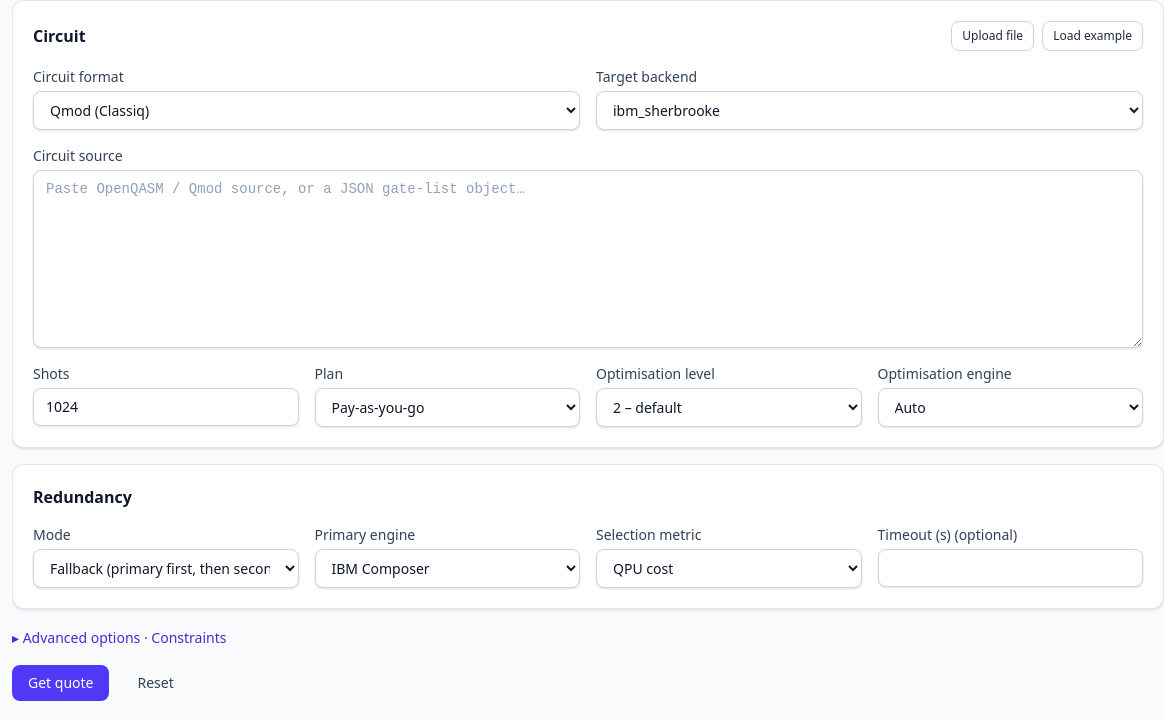
CircuitForm › fills the Bell-state example and switches format to openqasm2
The width and height of the screenshot is (1164, 720).
expect the text box labelled "Circuit source" is empty: met, box x1=33 y1=170 x2=1143 y2=348
Click the button "Load example".
click(1093, 36)  # box x1=1042 y1=21 x2=1143 y2=51
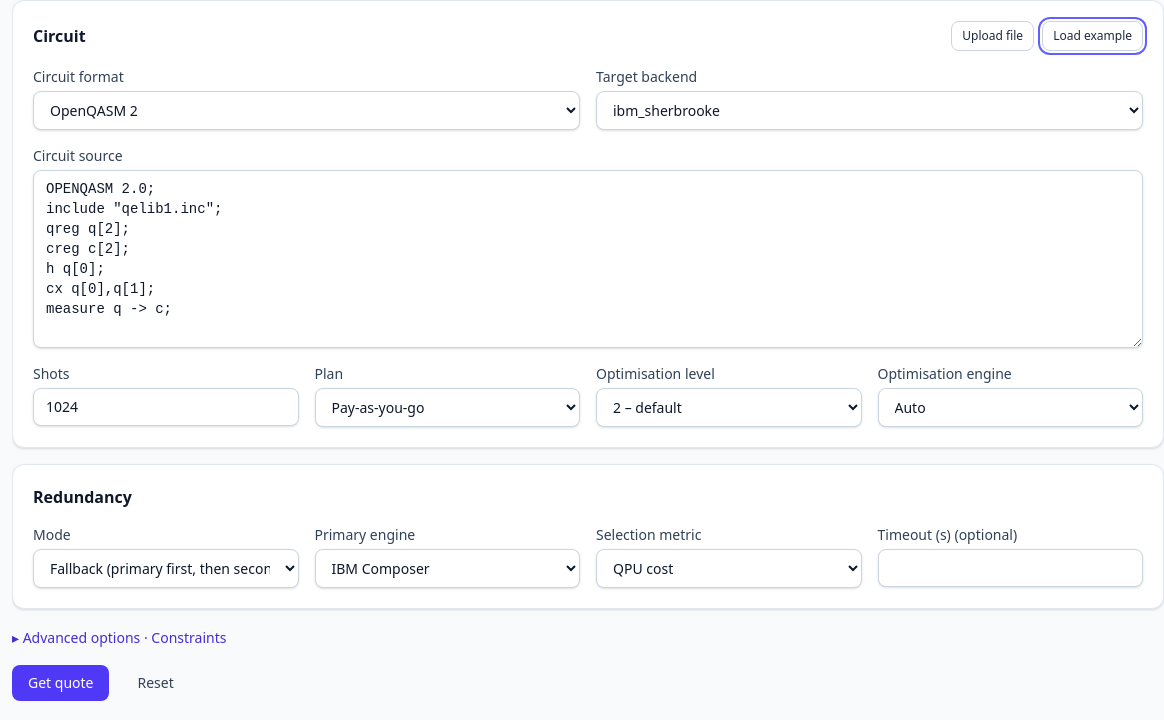
expect the dropdown labelled "Circuit format" shows "OpenQASM 2": met, box x1=33 y1=91 x2=580 y2=130
